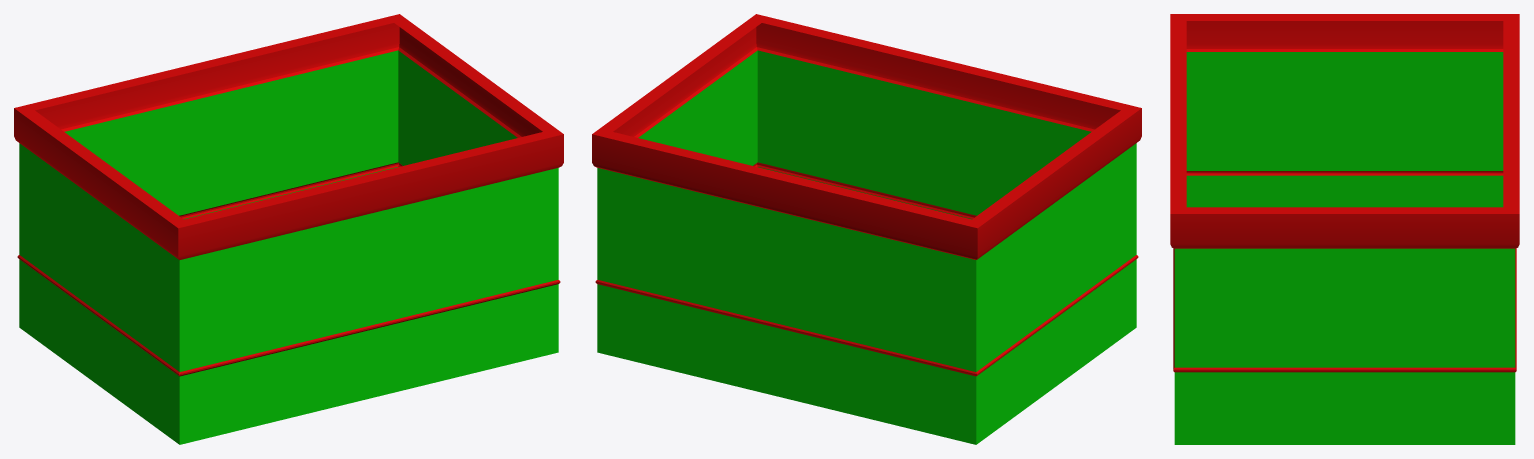
The model's file is Building02_Base_Nice.fbx.
3 views of the same model, side by side, from view 1: azimuth 30°, elevation 25°; view 2: azimuth 150°, elevation 25°; view 3: azimuth 270°, elevation 25° (orthographic). The views are drawn at different scales.
Parts seen in each view (by area): view 1: Building2_Base; view 2: Building2_Base; view 3: Building2_Base.
Boxes of the visible parts, x1=… form: Building2_Base: x1=14, y1=14, x2=563, y2=444; Building2_Base: x1=592, y1=14, x2=1141, y2=444; Building2_Base: x1=1170, y1=14, x2=1519, y2=444.
Size of the model in its own units: 553 by 300 by 408.
